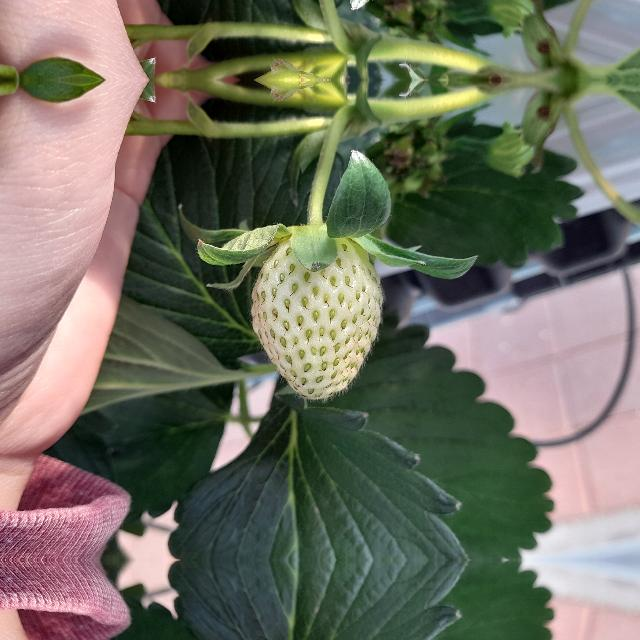Health_25: (249, 235, 383, 402)
